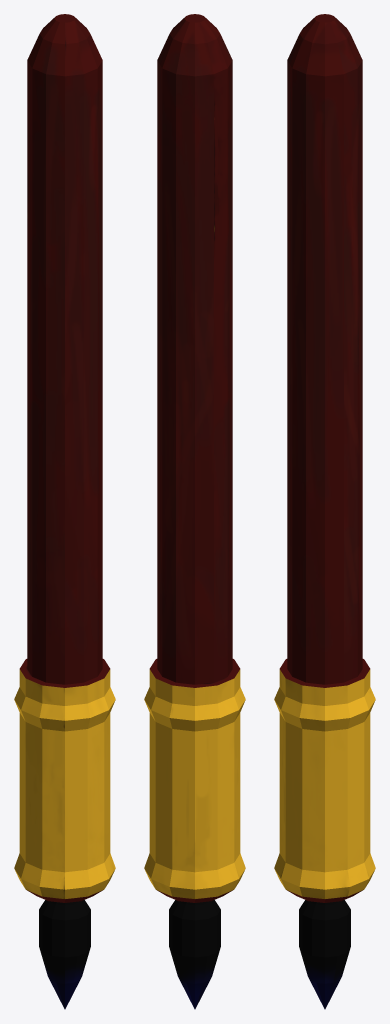
File: pen1.obj
The picture shows the model from 3 angles, left to right: view 1: azimuth 30°, elevation 25°; view 2: azimuth 150°, elevation 25°; view 3: azimuth 330°, elevation 25°; orthographic projection.
Visible parts, largest first — view 1: pen_Cylinder; view 2: pen_Cylinder; view 3: pen_Cylinder.
Part boxes in pixels (<box>): pen_Cylinder: <box>14,14,115,1009</box>; pen_Cylinder: <box>144,14,245,1009</box>; pen_Cylinder: <box>274,14,375,1009</box>.
Bounding box in the file's own units: 2.24 × 24.1 × 2.24.
Materials: 1 (1 with a texture image).
